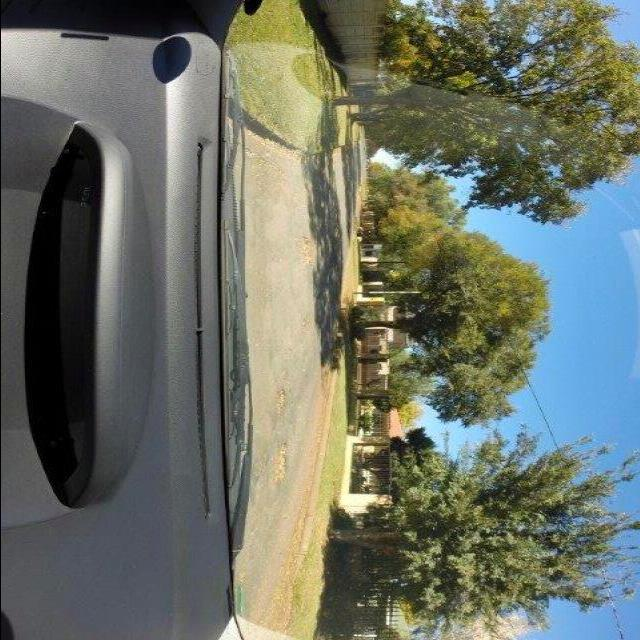lubang: (272, 443, 290, 490), (298, 234, 320, 266), (270, 386, 290, 404)
